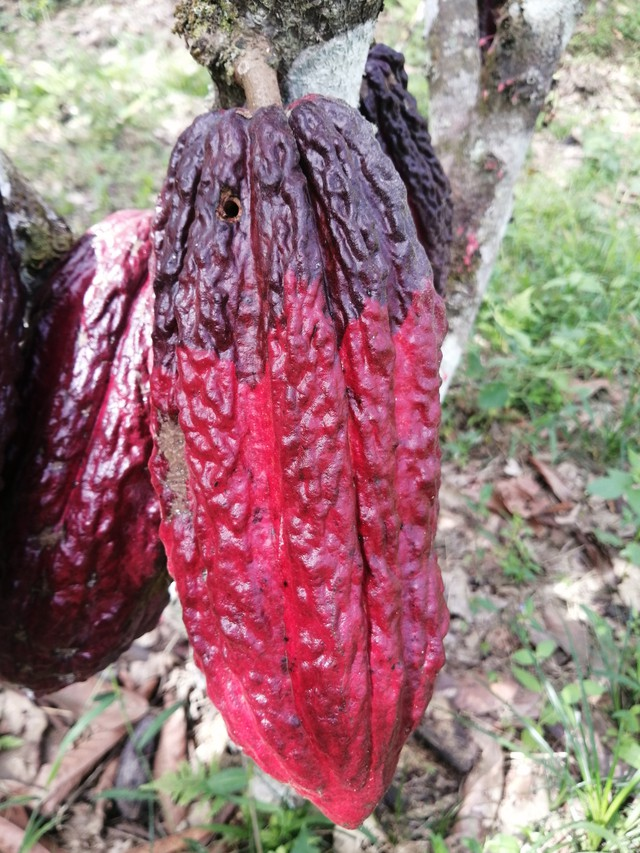carmenta foraseminis: (146, 96, 452, 833), (3, 206, 176, 687)
